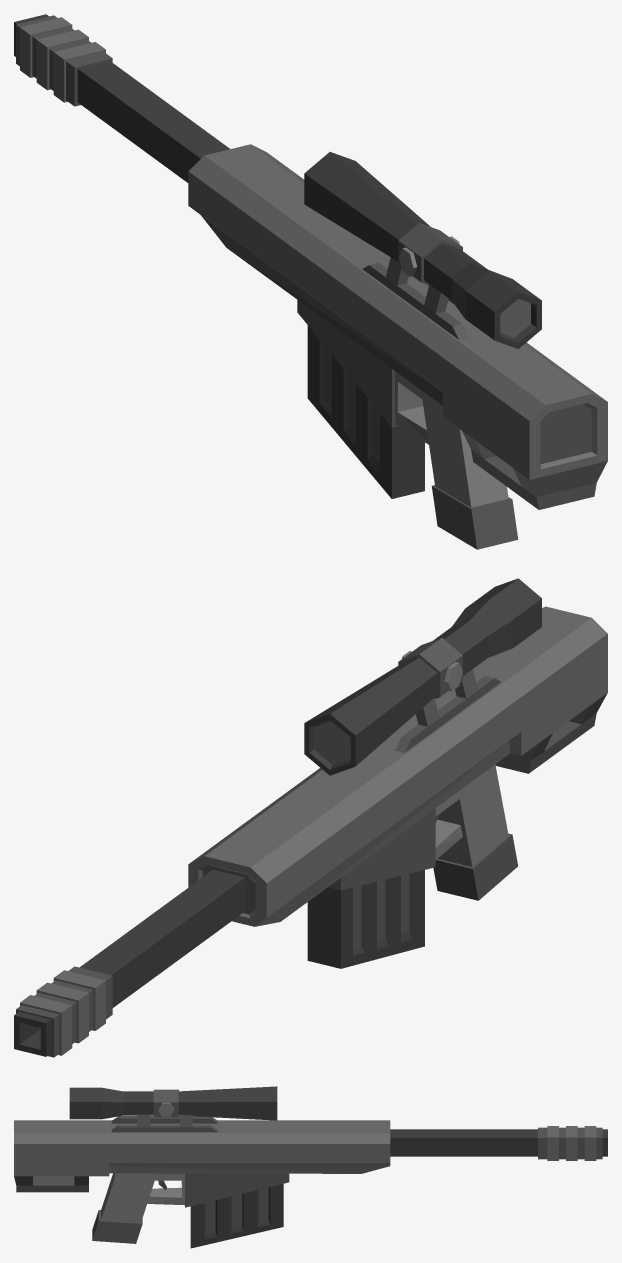
The model's file is sniper_2.glb.
3 views of the same model, one above another, from view 1: azimuth 30°, elevation 25°; view 2: azimuth 150°, elevation 25°; view 3: azimuth 270°, elevation 25° (orthographic). The views are drawn at different scales.
Visible parts, largest first — view 1: sniper_2, sniper_scope_2, sniper_charger_2; view 2: sniper_2, sniper_scope_2, sniper_charger_2; view 3: sniper_2, sniper_scope_2, sniper_charger_2.
Boxes of the visible parts, x1,y1,x2,y2 form: sniper_2: (14, 14, 607, 549); sniper_scope_2: (304, 152, 541, 349); sniper_charger_2: (307, 325, 424, 498); sniper_2: (14, 606, 607, 1057); sniper_scope_2: (304, 578, 541, 775); sniper_charger_2: (307, 870, 424, 968); sniper_2: (14, 1120, 607, 1243); sniper_scope_2: (69, 1086, 277, 1132); sniper_charger_2: (190, 1184, 283, 1248).
Bounding box in the file's own units: 0.2818 × 0.9824 × 3.35.
1 material, 1 textured.
